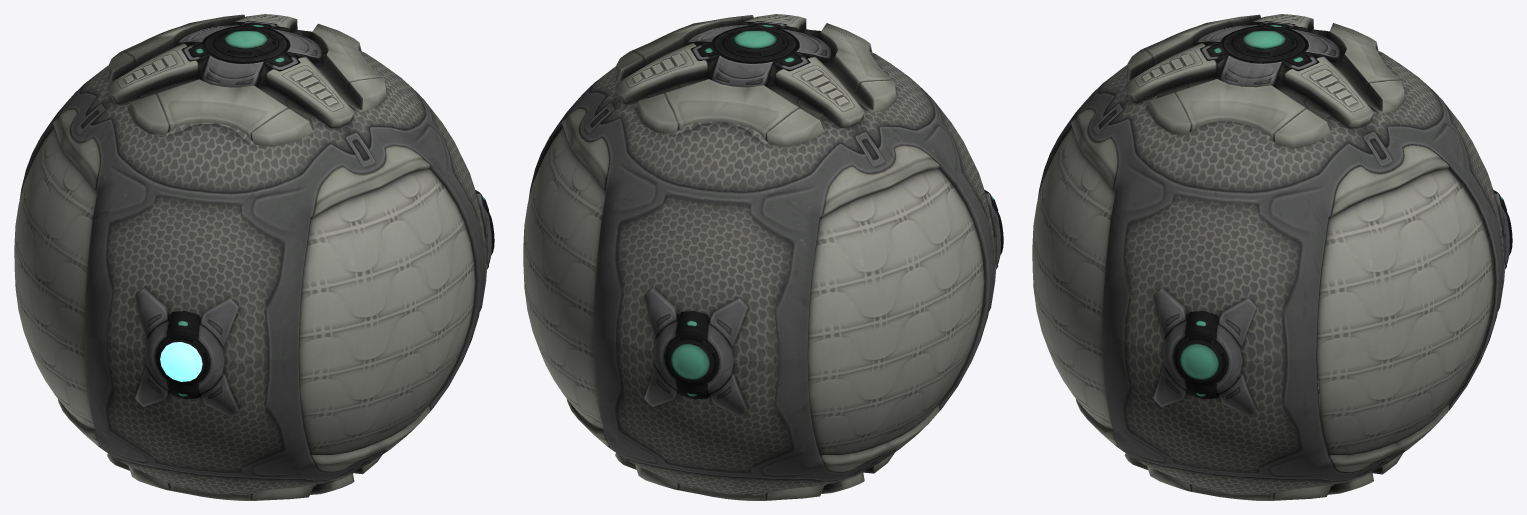
File: ball.glb
3 renders of one model, left to right at view 1: azimuth 30°, elevation 25°; view 2: azimuth 150°, elevation 25°; view 3: azimuth 270°, elevation 25°, orthographic.
Parts seen in each view (by area): view 1: bola; view 2: bola; view 3: bola.
Boxes of the visible parts, box(x1,y1,x2,y2) form: bola: box(14, 14, 494, 500); bola: box(523, 14, 1003, 500); bola: box(1032, 14, 1512, 500).
Bounding box in the file's own units: 1.92 × 1.96 × 1.91.
Materials: 2 (1 with a texture image).
